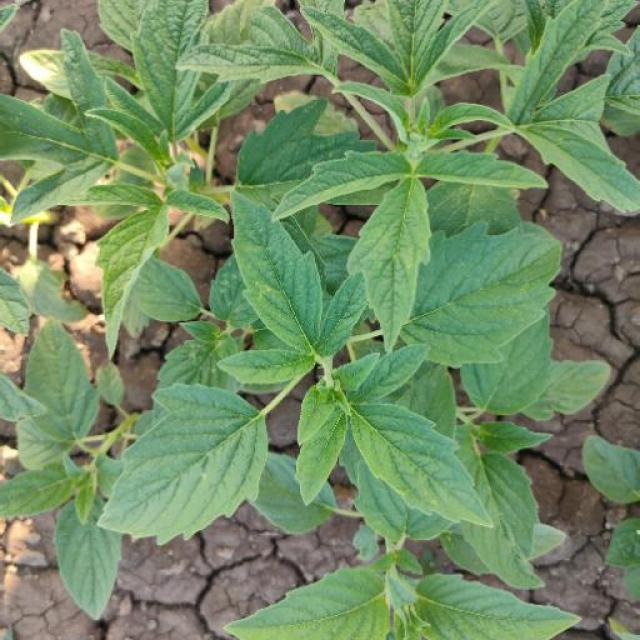crop: (20, 14, 625, 568)
